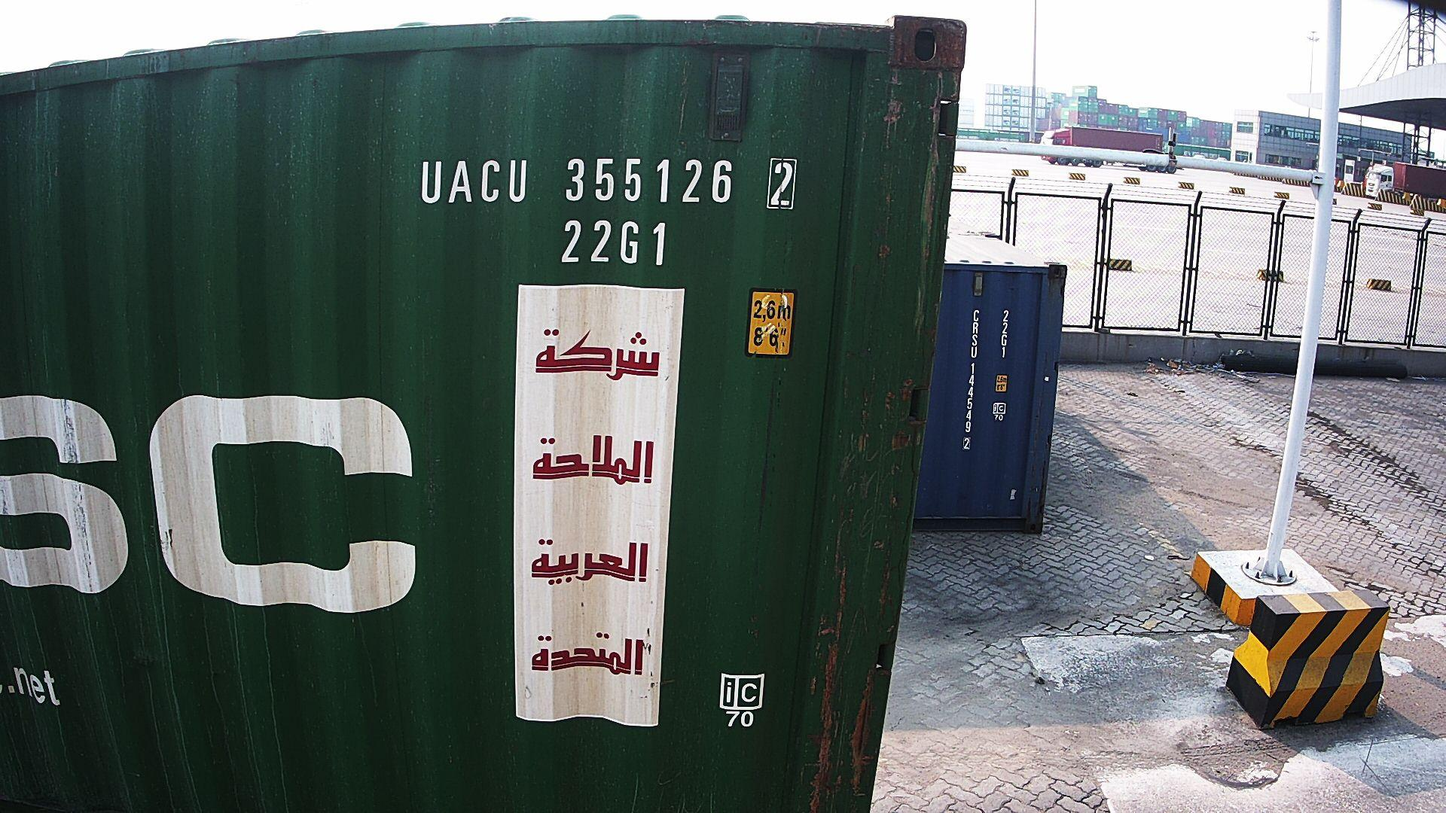container-numbers: (411, 153, 802, 212), (557, 217, 673, 268), (960, 305, 980, 454), (998, 308, 1013, 360)
